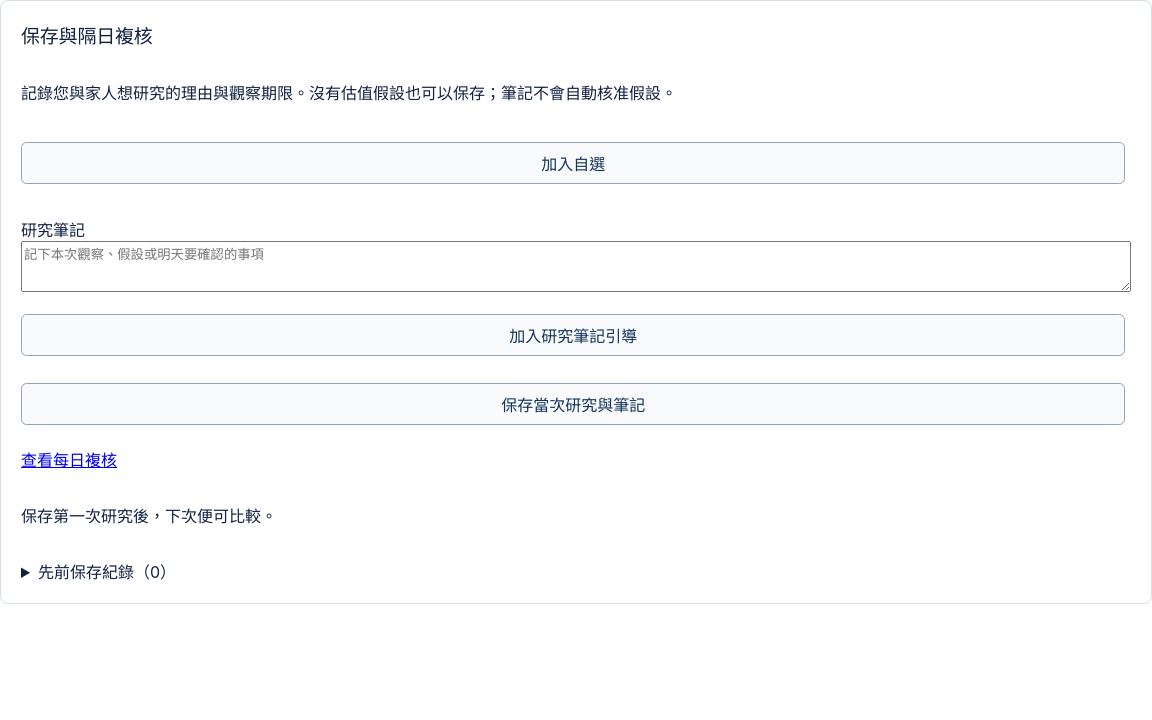
Test: guided stock research › appends optional note prompts without overwriting text or saving
Type "原有觀察" into the text box labelled "研究筆記" at (576, 267), box x1=21 y1=241 x2=1131 y2=292
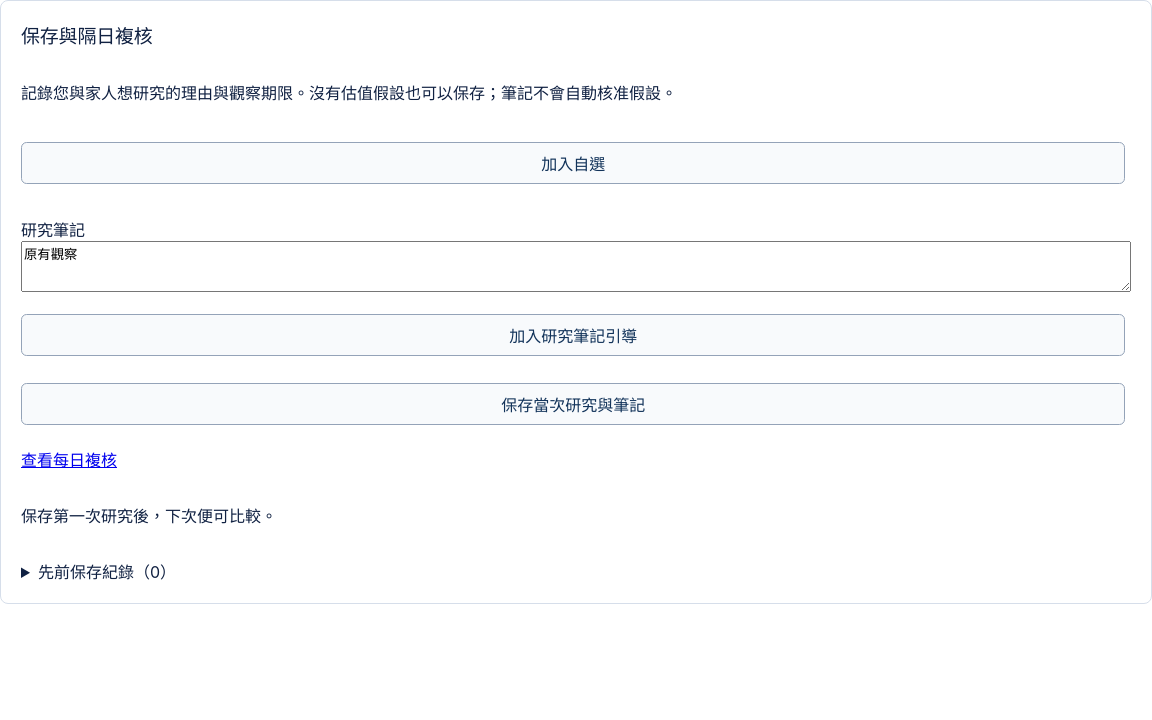
Click the button "加入研究筆記引導" at (573, 335), box x1=21 y1=314 x2=1125 y2=356
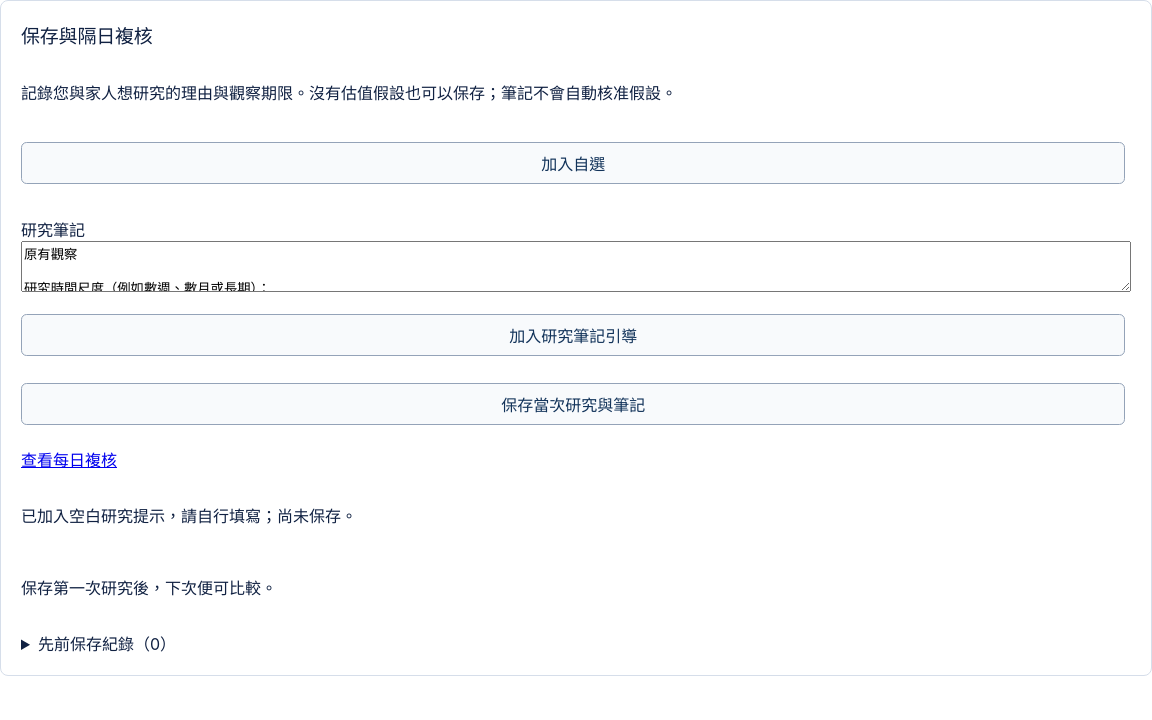
Expected: the message shows "尚未保存", x1=21 y1=506 x2=357 y2=526
